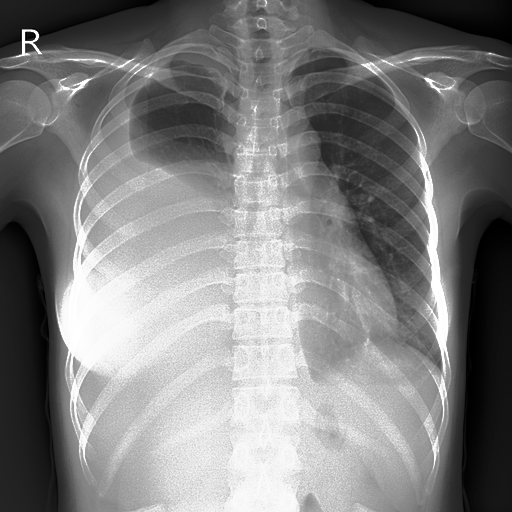ILD: (128, 114, 222, 161)
Pleural effusion: (75, 51, 236, 336)
Pleural thickening: (124, 125, 225, 200)
